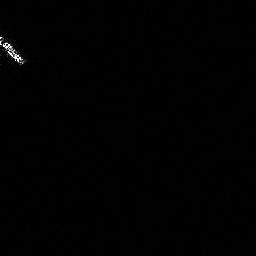ship: (1, 36, 26, 65)
